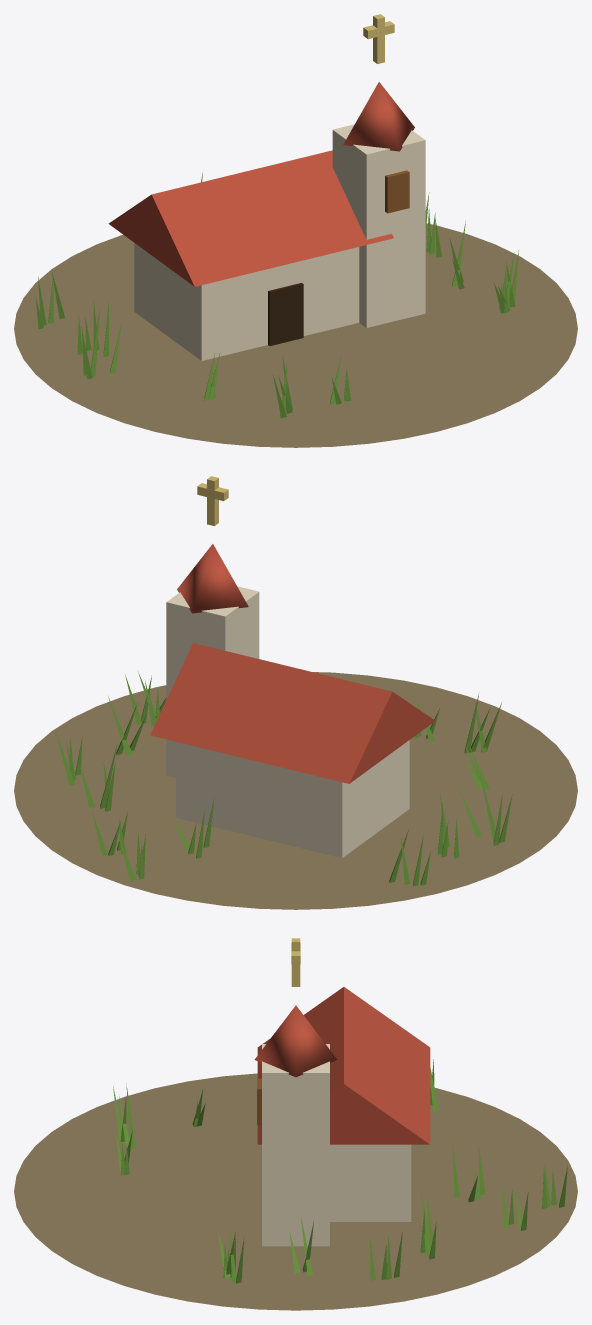
Rendered from improvement_mission.fbx.
3 views of the same model, one above another, from view 1: azimuth 30°, elevation 25°; view 2: azimuth 150°, elevation 25°; view 3: azimuth 270°, elevation 25° (orthographic).
Parts seen in each view (by area): view 1: improvement_mission_gpatch#8a7a5ar.001_00, improvement_mission_plaster_02, improvement_mission_tiles.001_03, improvement_mission_leaf#6a9a3a.008_01, improvement_mission_door.001_04, improvement_mission_wood#8a5a2c.010_05, improvement_mission_cross_06; view 2: improvement_mission_gpatch#8a7a5ar.001_00, improvement_mission_tiles.001_03, improvement_mission_plaster_02, improvement_mission_leaf#6a9a3a.008_01, improvement_mission_cross_06; view 3: improvement_mission_gpatch#8a7a5ar.001_00, improvement_mission_plaster_02, improvement_mission_tiles.001_03, improvement_mission_leaf#6a9a3a.008_01, improvement_mission_cross_06.
Boxes of the visible parts, x1=… form: improvement_mission_gpatch#8a7a5ar.001_00: x1=14, y1=223, x2=577, y2=447; improvement_mission_plaster_02: x1=134, y1=124, x2=425, y2=360; improvement_mission_tiles.001_03: x1=108, y1=82, x2=414, y2=286; improvement_mission_leaf#6a9a3a.008_01: x1=35, y1=172, x2=518, y2=418; improvement_mission_door.001_04: x1=268, y1=283, x2=303, y2=345; improvement_mission_wood#8a5a2c.010_05: x1=385, y1=170, x2=409, y2=213; improvement_mission_cross_06: x1=363, y1=14, x2=394, y2=63; improvement_mission_gpatch#8a7a5ar.001_00: x1=14, y1=672, x2=577, y2=909; improvement_mission_tiles.001_03: x1=150, y1=544, x2=435, y2=783; improvement_mission_plaster_02: x1=166, y1=586, x2=409, y2=857; improvement_mission_leaf#6a9a3a.008_01: x1=56, y1=671, x2=512, y2=886; improvement_mission_cross_06: x1=197, y1=476, x2=228, y2=525; improvement_mission_gpatch#8a7a5ar.001_00: x1=14, y1=1073, x2=577, y2=1310; improvement_mission_plaster_02: x1=262, y1=1044, x2=411, y2=1246; improvement_mission_tiles.001_03: x1=254, y1=987, x2=430, y2=1144; improvement_mission_leaf#6a9a3a.008_01: x1=113, y1=1059, x2=567, y2=1283; improvement_mission_cross_06: x1=291, y1=938, x2=300, y2=986.
Size of the model in its own units: 118 by 67.85 by 118.
